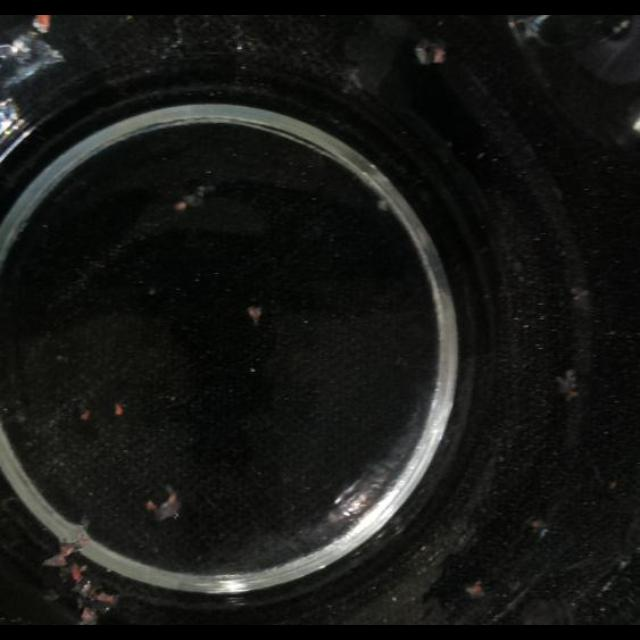Fragment: (1, 15, 62, 156), (41, 515, 118, 625), (138, 484, 182, 524), (556, 362, 582, 410), (412, 37, 450, 69), (523, 510, 551, 538), (459, 572, 485, 602), (175, 188, 207, 212), (242, 302, 264, 328)
microbeads: (72, 405, 96, 425), (175, 196, 191, 218), (109, 402, 125, 416), (146, 500, 158, 512)
